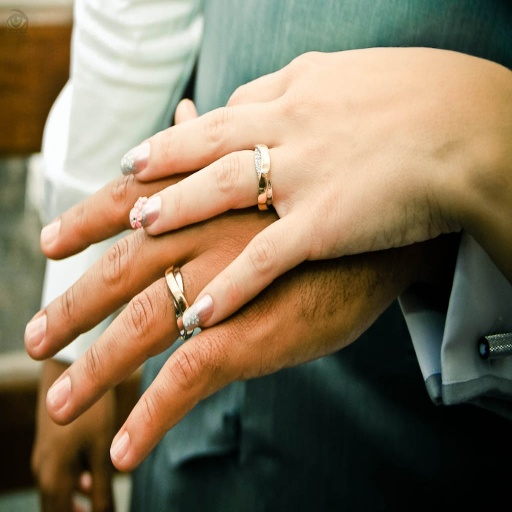hand: (22, 172, 424, 475), (121, 44, 511, 332), (31, 356, 114, 511)
